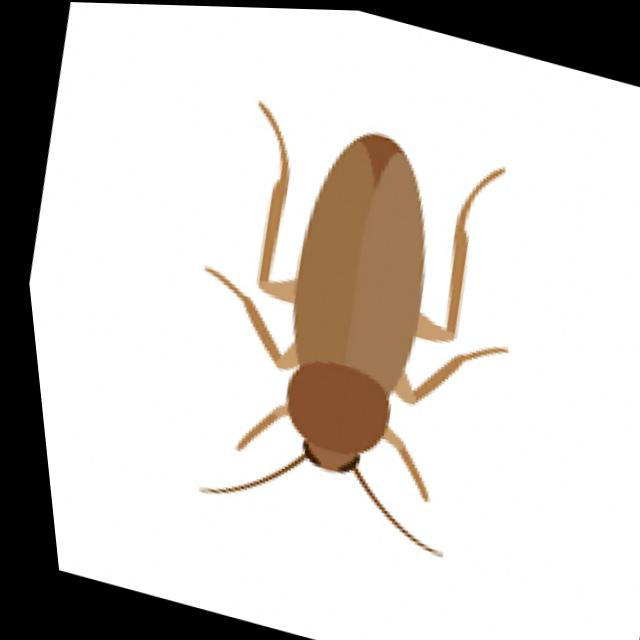Cockroach: (120, 57, 571, 588)
